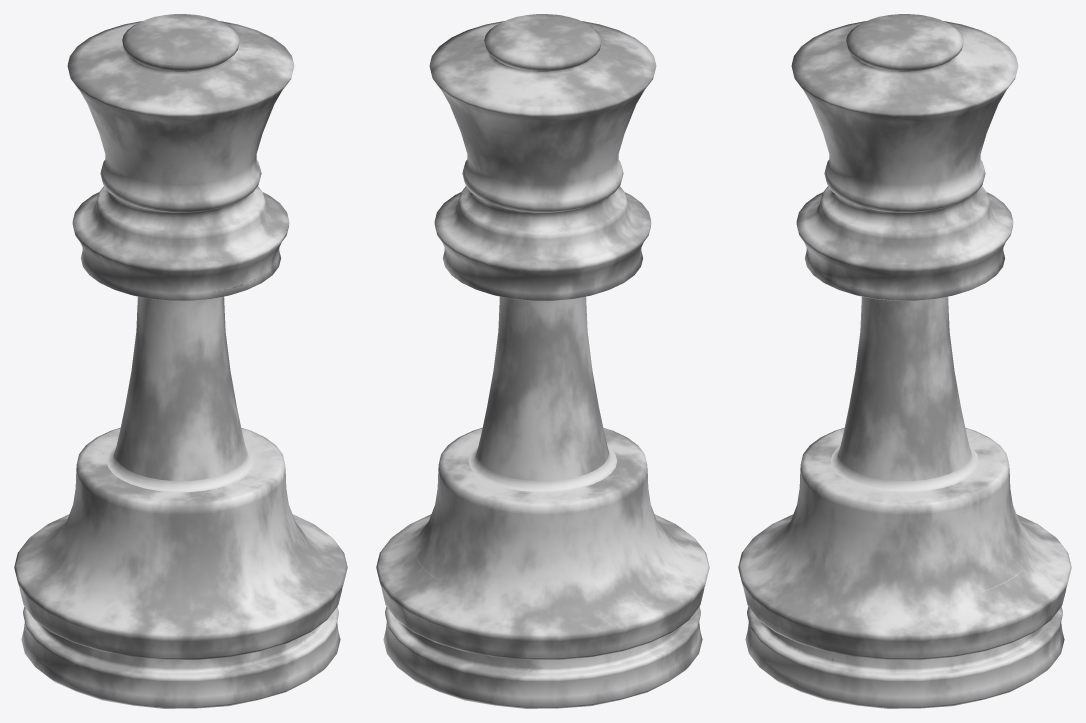
File: queen.gltf
3 renders of one model, left to right at view 1: azimuth 30°, elevation 25°; view 2: azimuth 150°, elevation 25°; view 3: azimuth 270°, elevation 25°, orthographic.
Visible parts, largest first — view 1: Queen_W; view 2: Queen_W; view 3: Queen_W.
Boxes of the visible parts, x1,y1,x2,y2 form: Queen_W: (14, 14, 347, 708); Queen_W: (376, 14, 709, 708); Queen_W: (738, 14, 1071, 708).
Bounding box in the file's own units: 0.0458 × 0.0931 × 0.046.
Materials: 1 (1 with a texture image).
